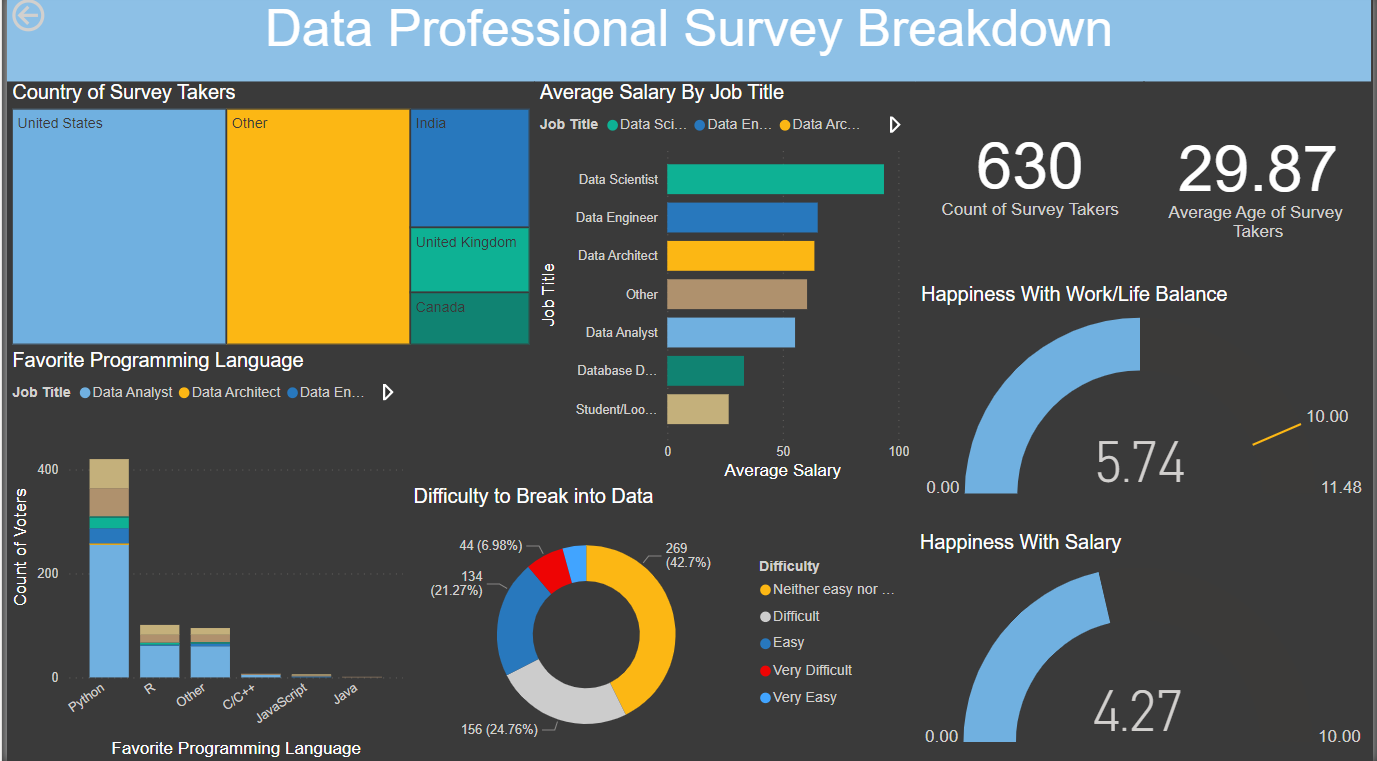

The page's visual inventory and layout, read from the dashboard file:
{"tool":"powerbi","page":{"name":"Page 1","canvas":[1280,720],"ordinal":0},"visuals":[{"type":"textbox","box":[0,0,1278.6,82.4],"z":0},{"type":"card","fields":{"Values":["Count(Data Professional Survey.Unique ID)"]},"box":[851.5,82.4,214.2,166.2],"z":1000},{"type":"card","fields":{"Values":["Avg(Data Professional Survey.Q10 - Current Age)"]},"box":[1064.4,82.4,215.6,170.3],"z":2000},{"type":"actionButton","box":[0,0,100,40],"z":3000},{"type":"barChart","title":"Average Salary By Job Title","fields":{"Category":["Data Professional Survey.Q1 - Which Title Best Fits your Current Role?.1"],"Y":["Avg(Data Professional Survey.Average Salary)"],"Series":["Data Professional Survey.Q1 - Which Title Best Fits your Current Role?.1"]},"box":[494.4,82.4,357.1,377.7],"z":4000},{"type":"columnChart","title":"Favorite Programming Language","fields":{"Category":["Data Professional Survey.Q5 - Favorite Programming Language.1"],"Y":["CountNonNull(Data Professional Survey.Unique ID)"],"Series":["Data Professional Survey.Q1 - Which Title Best Fits your Current Role?.1"]},"box":[0,332.4,376.3,387.3],"z":5000},{"type":"treemap","title":"Country of Survey Takers","fields":{"Group":["Data Professional Survey.Q11 - Which Country do you live in?.1"],"Values":["CountNonNull(Data Professional Survey.Q11 - Which Country do you live in?.1)"]},"box":[0,82.4,494.4,251.3],"z":6000},{"type":"gauge","title":"Happiness With Work/Life Balance","fields":{"Y":["Avg(Data Professional Survey.Q6 - How Happy are you in your Current Position with the following? (Work/Life Balance))"],"MinValue":["Min(Data Professional Survey.Q6 - How Happy are you in your Current Position with the following? (Work/Life Balance))"],"TargetValue":["Max(Data Professional Survey.Q6 - How Happy are you in your Current Position with the following? (Work/Life Balance))"]},"box":[851.5,270.6,428.5,214.2],"z":7000},{"type":"gauge","title":"Happiness With Salary","fields":{"MinValue":["Min(Data Professional Survey.Q6 - How Happy are you in your Current Position with the following? (Salary))"],"MaxValue":["Max(Data Professional Survey.Q6 - How Happy are you in your Current Position with the following? (Salary))"],"Y":["Avg(Data Professional Survey.Q6 - How Happy are you in your Current Position with the following? (Salary))"]},"box":[850.1,504,428.5,215.6],"z":8000},{"type":"donutChart","title":"Difficulty to Break into Data","fields":{"Category":["Data Professional Survey.Q7 - How difficult was it for you to break into Data?"],"Y":["CountNonNull(Data Professional Survey.Q7 - How difficult was it for you to break into Data?)"]},"box":[376.3,460.1,473.8,259.6],"z":9000}]}

Visuals, with their boxes in screenshot pixels (x1, y1, x2, y2), scaled from the page's 1280x720 canvas onto the 1377x761 screenshot:
textbox: 0/0/1375/87
card - Count(Data Professional Survey.Unique ID): 916/87/1146/263
card - Avg(Data Professional Survey.Q10 - Current Age): 1145/87/1376/267
actionButton: 0/0/108/42
"Average Salary By Job Title" barChart: 532/87/916/486
"Favorite Programming Language" columnChart: 0/351/405/760
"Country of Survey Takers" treemap: 0/87/532/353
"Happiness With Work/Life Balance" gauge: 916/286/1376/512
"Happiness With Salary" gauge: 915/533/1375/760
"Difficulty to Break into Data" donutChart: 405/486/915/760
